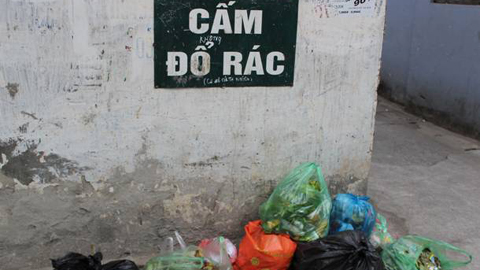plastic bag: (259, 162, 332, 242), (381, 234, 473, 270), (292, 238, 388, 270), (234, 223, 297, 270), (151, 230, 213, 269), (331, 191, 376, 236), (50, 252, 144, 270), (197, 236, 238, 268)
